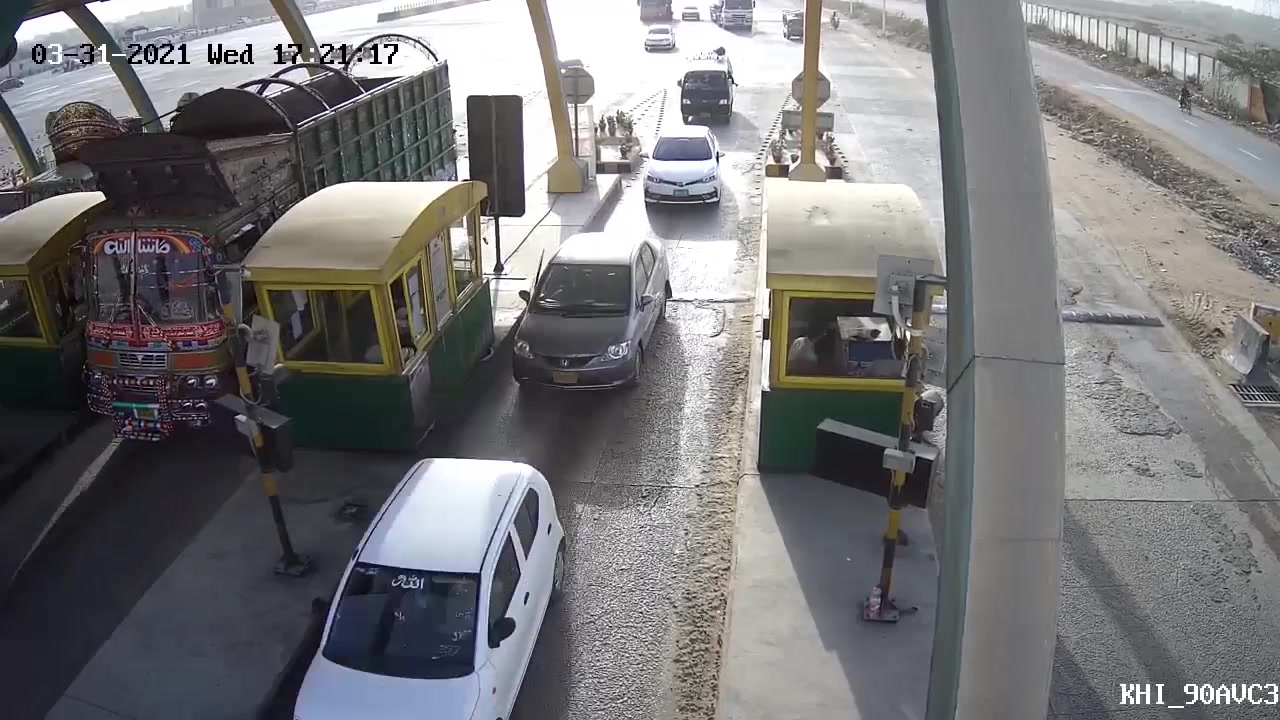F1: (496, 229, 682, 401)
